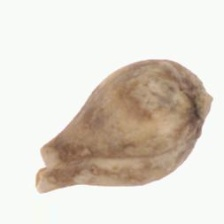L1: (32, 143, 63, 194), (189, 79, 212, 137)
L2: (35, 59, 211, 194)
